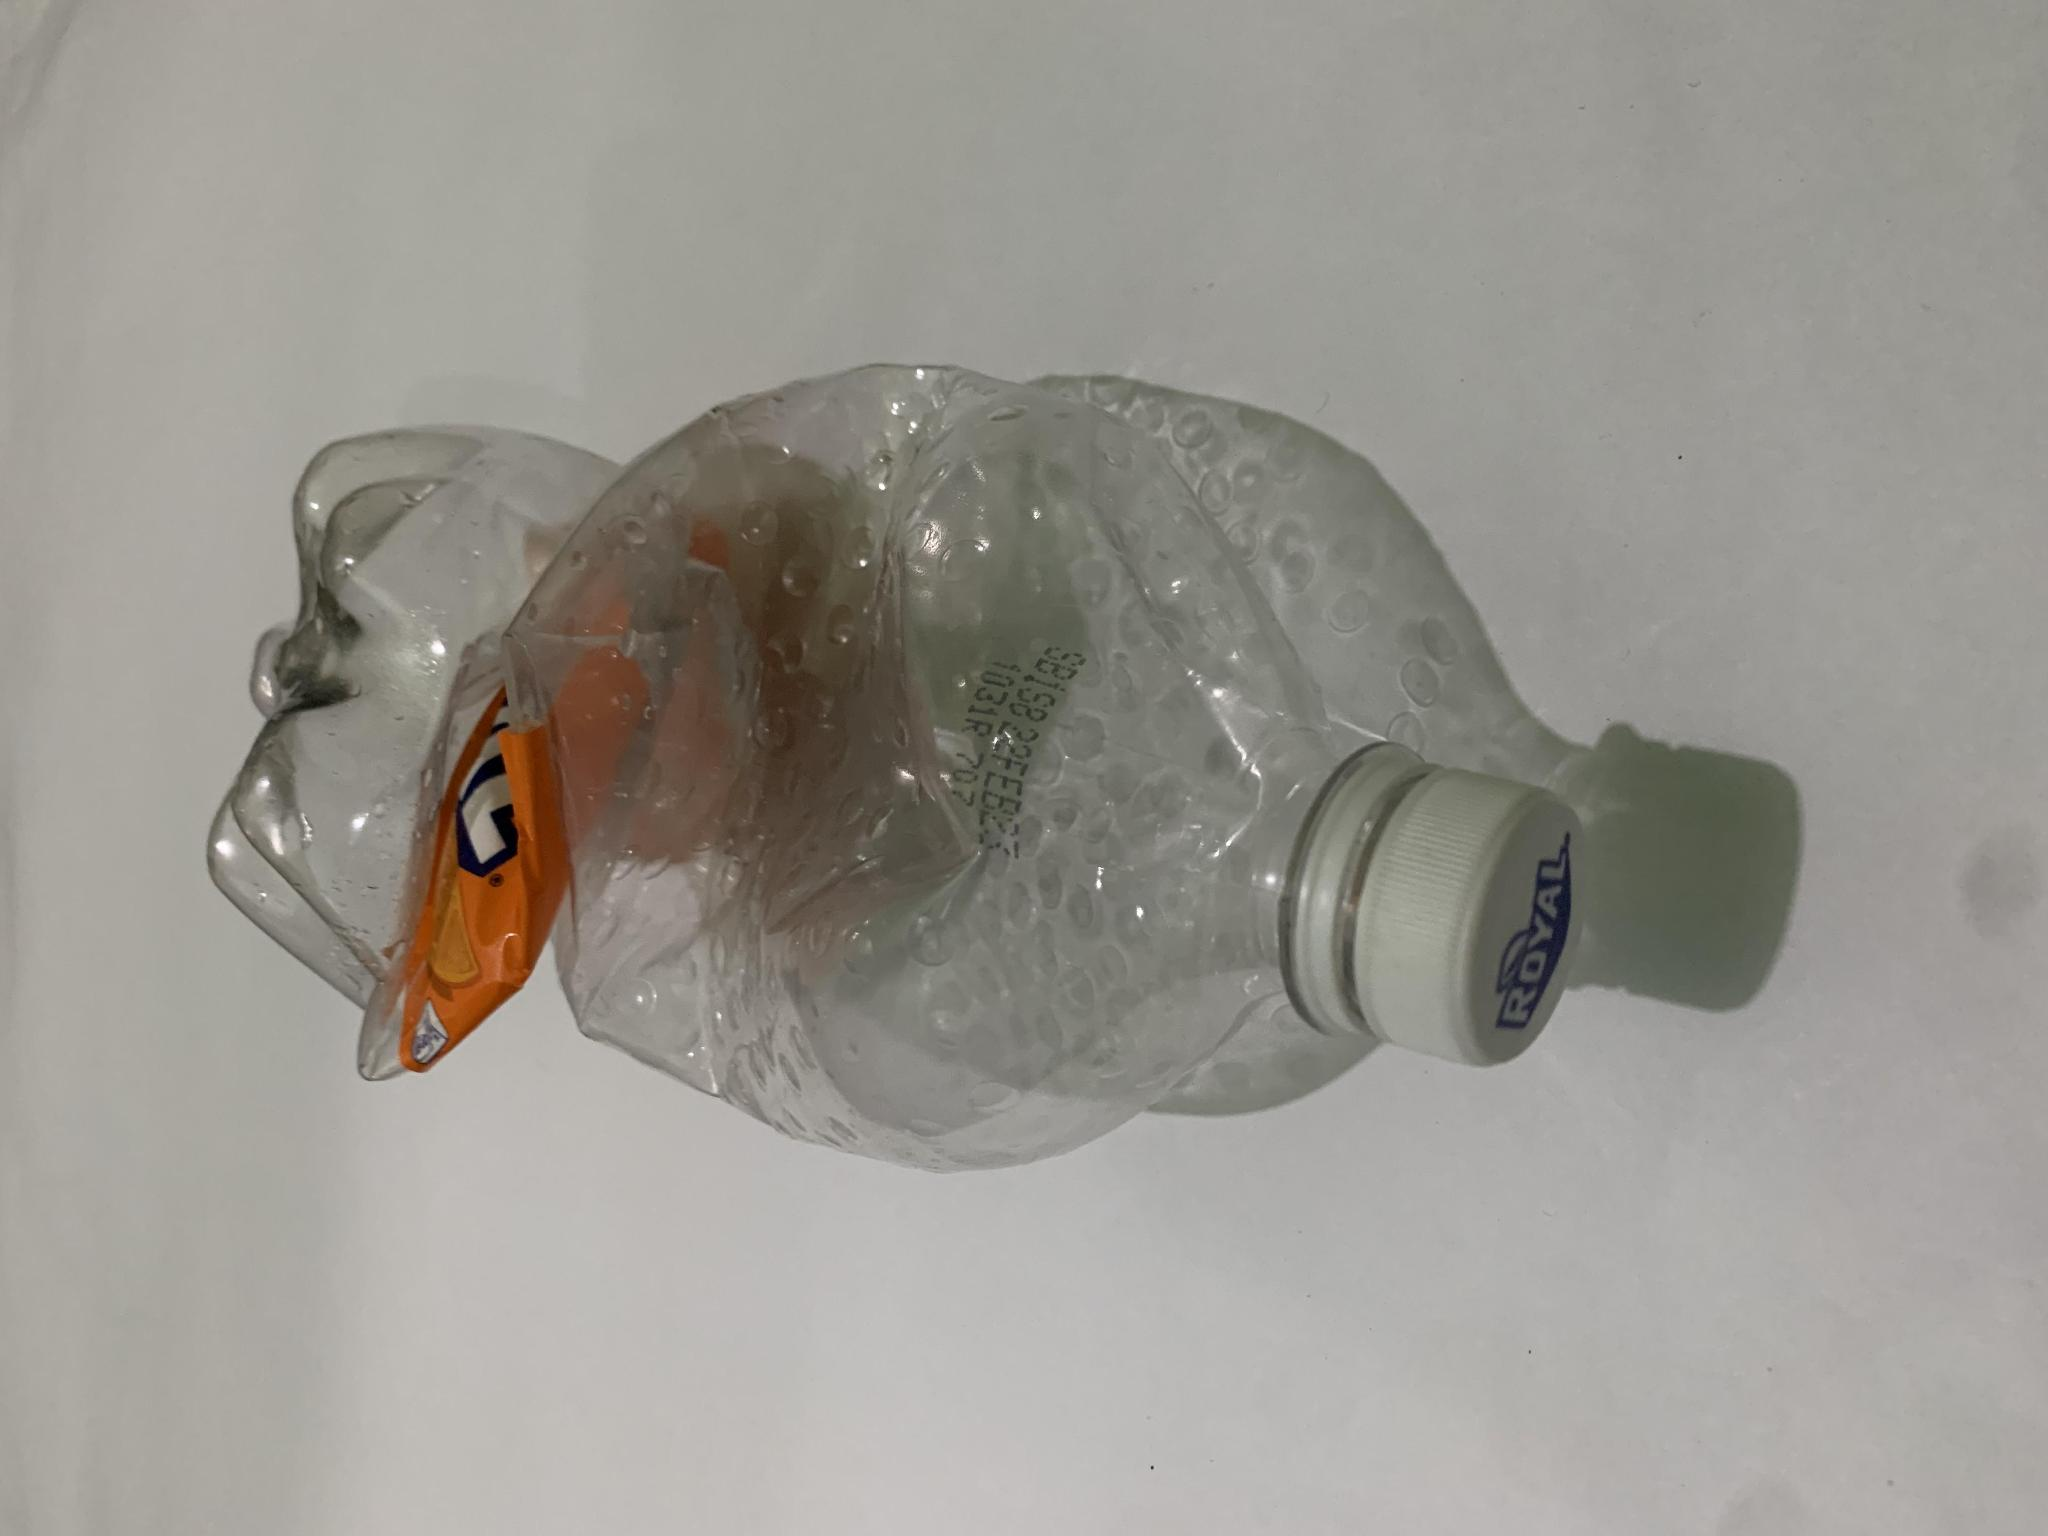bottle: (187, 146, 1599, 1192)
